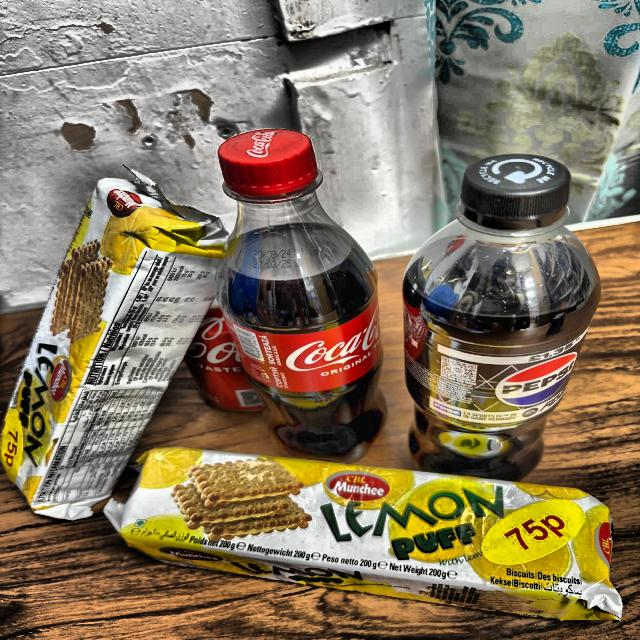coke-bottle: (208, 126, 435, 458)
coke-can: (190, 310, 270, 436)
lemon puff: (104, 436, 632, 640), (10, 160, 218, 548)
pepsi-bottle: (410, 142, 594, 486)
